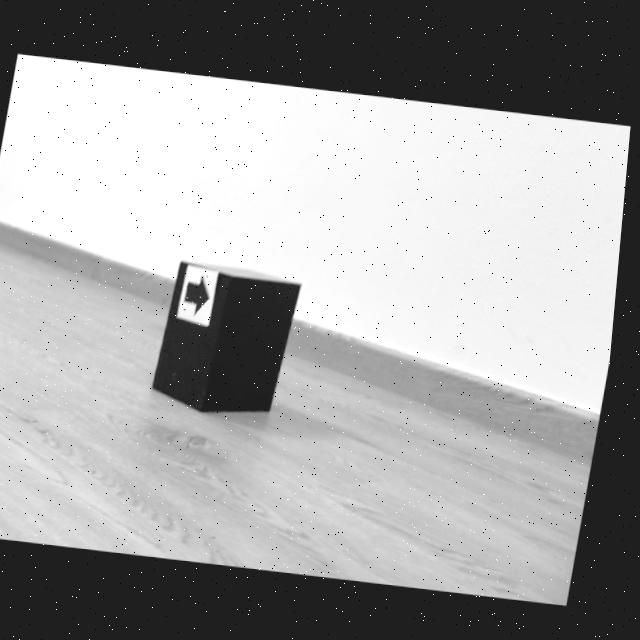RIGHT: (189, 274, 214, 312)
